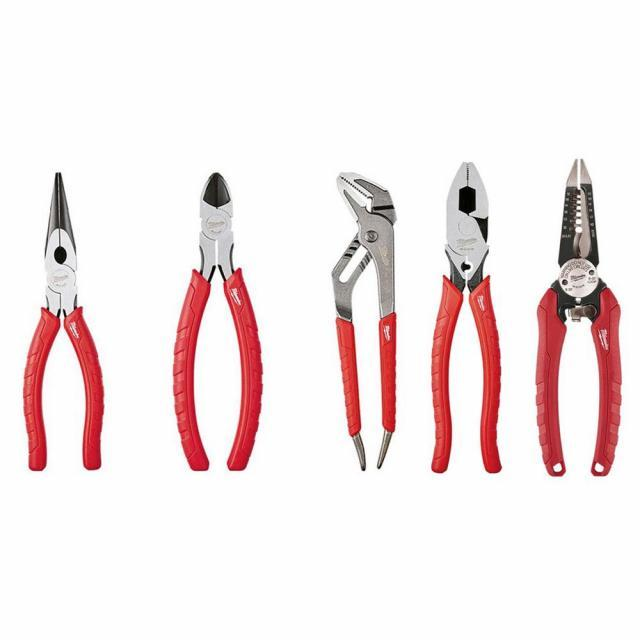pliers: (161, 164, 270, 478), (7, 164, 114, 481), (528, 152, 628, 484), (316, 165, 406, 476), (426, 154, 508, 484)
